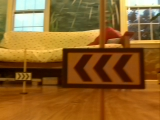left: (64, 49, 143, 87)
right: (15, 72, 32, 80)
